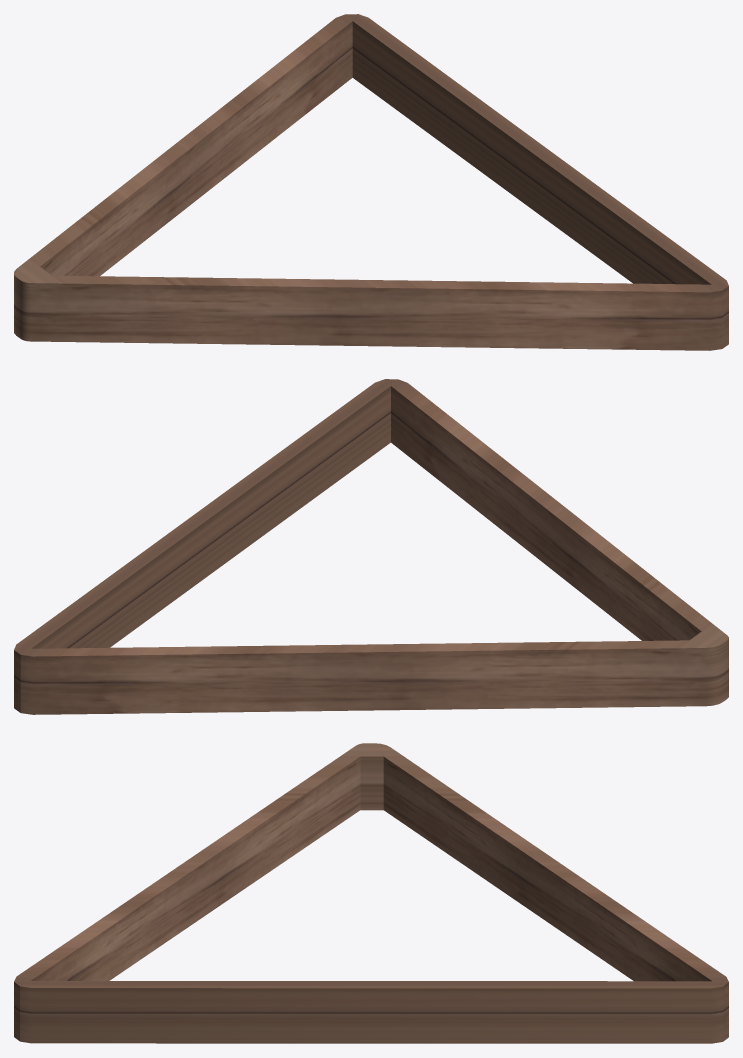
File: ball seting.fbx
3 renders of one model, top to bottom at view 1: azimuth 30°, elevation 25°; view 2: azimuth 150°, elevation 25°; view 3: azimuth 270°, elevation 25°, orthographic. The views are drawn at different scales.
Parts seen in each view (by area): view 1: pCube122; view 2: pCube122; view 3: pCube122.
Boxes of the visible parts, left/top/right/bottom form: pCube122: left=14, top=14, right=728, bottom=350; pCube122: left=14, top=379, right=728, bottom=714; pCube122: left=14, top=743, right=728, bottom=1043.
Bounding box in the file's own units: 1.81 × 0.191 × 2.24.
